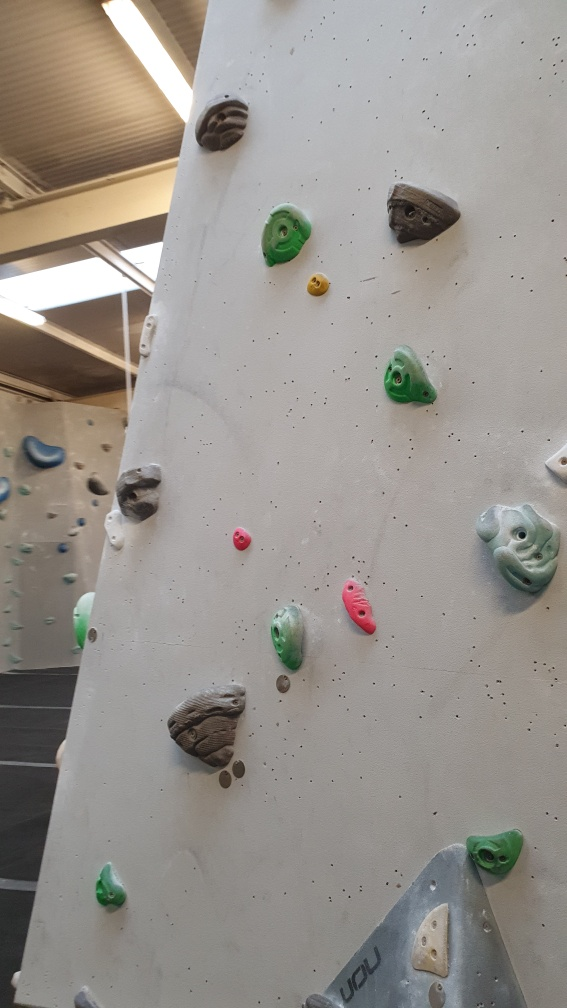Hand Start: (427, 975, 448, 1007), (234, 757, 251, 784), (215, 770, 232, 791), (276, 676, 288, 696)
Jug: (477, 497, 562, 597), (163, 682, 251, 767), (387, 180, 460, 249), (381, 345, 438, 410), (194, 93, 248, 157), (263, 204, 315, 267), (111, 468, 166, 521), (272, 604, 311, 674)
Pinch: (232, 527, 253, 552)
